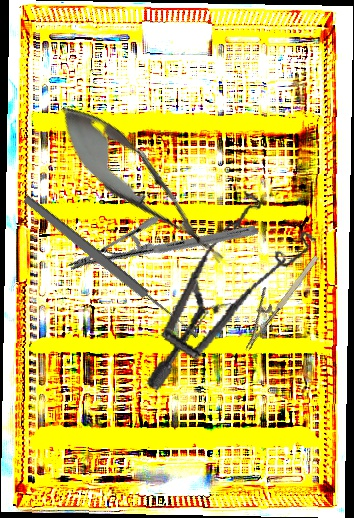Micro Scissor: (41, 89, 242, 281)
Needle Holder: (67, 156, 259, 340), (226, 243, 322, 352)
Speculum: (144, 178, 325, 414)
Surgical Spoon: (21, 193, 201, 342)
